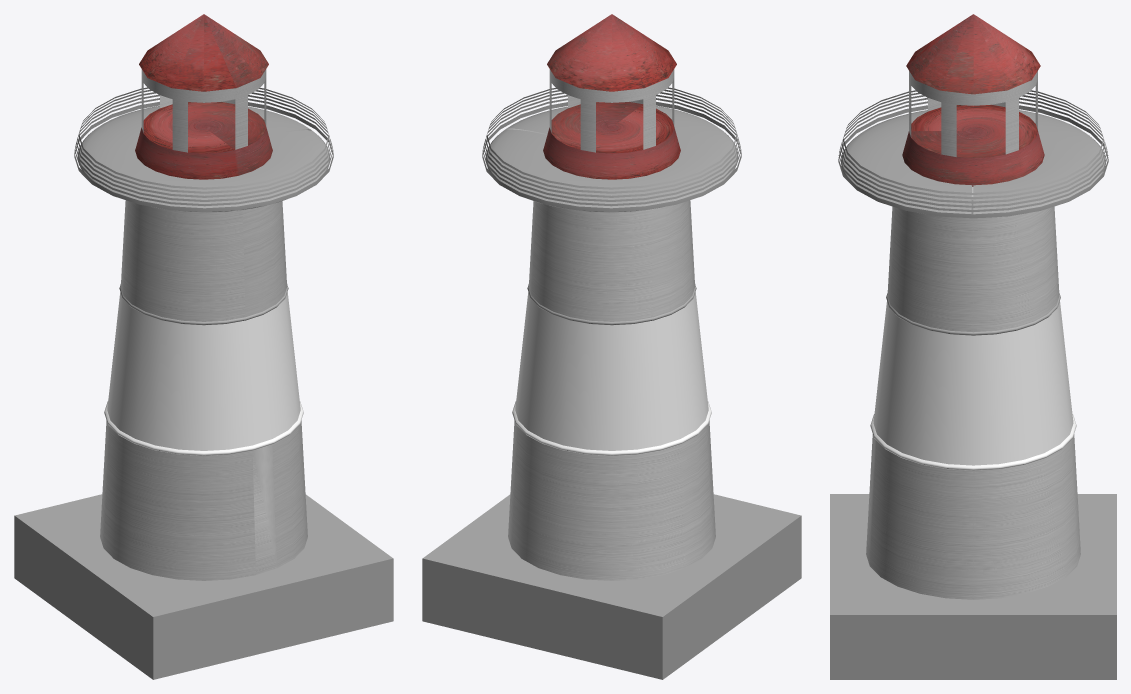
The model's file is lighthouse.fbx.
3 views of the same model, side by side, from view 1: azimuth 30°, elevation 25°; view 2: azimuth 150°, elevation 25°; view 3: azimuth 270°, elevation 25° (orthographic). The views are drawn at different scales.
Visible parts, largest first — view 1: Box, Cylinder, Cylinder1, Cylinder2, Torus, Cylinder3, Torus1, Cone, Cylinder4, Cylinder5, Torus2, Torus3; view 2: Box, Cylinder, Cylinder1, Cylinder2, Torus, Cylinder3, Torus1, Cone, Cylinder4, Cylinder5, Torus2, Torus3; view 3: Box, Cylinder, Cylinder1, Cylinder2, Torus, Cylinder3, Torus1, Cone, Cylinder4, Cylinder5, Torus2, Torus3.
Boxes of the visible parts, x1,y1,x2,y2 form: Box: (14,494,393,679); Cylinder: (100,420,307,580); Cylinder1: (107,292,300,450); Cylinder2: (120,200,287,321); Torus: (77,106,330,212); Cylinder3: (135,102,272,179); Torus1: (74,87,333,212); Cone: (139,14,268,91); Cylinder4: (141,77,266,152); Cylinder5: (141,69,266,102); Torus2: (104,401,303,455); Torus3: (119,284,288,325); Box: (422,494,801,679); Cylinder: (508,420,715,580); Cylinder1: (515,292,708,450); Cylinder2: (528,200,695,321); Torus: (485,106,738,212); Cylinder3: (543,102,680,179); Torus1: (482,87,741,212); Cone: (547,14,676,91); Cylinder4: (549,77,674,152); Cylinder5: (549,69,674,102); Torus2: (512,401,711,455); Torus3: (527,284,696,325); Box: (830,494,1116,679); Cylinder: (866,434,1080,599); Cylinder1: (873,301,1073,465); Cylinder2: (887,187,1059,332); Torus: (841,110,1105,217); Cylinder3: (902,104,1044,186); Torus1: (838,90,1108,218); Cone: (906,14,1040,94); Cylinder4: (909,79,1037,156); Cylinder5: (909,71,1037,105); Torus2: (870,414,1076,470); Torus3: (886,293,1060,335).
Bounding box in the file's own units: 2 × 4.66 × 2.
5 materials, 2 textured.
